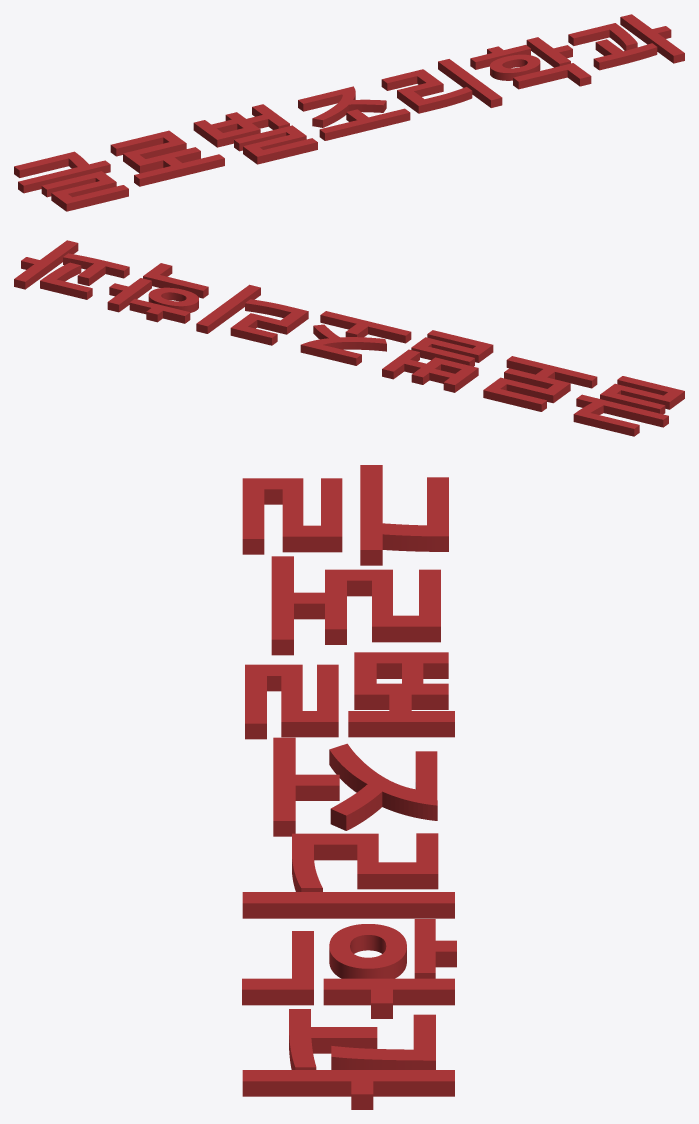
File: true8.fbx
3 views of the same model, one above another, from view 1: azimuth 30°, elevation 25°; view 2: azimuth 150°, elevation 25°; view 3: azimuth 270°, elevation 25° (orthographic). The views are drawn at different scales.
Visible parts, largest first — view 1: Text; view 2: Text; view 3: Text.
Boxes of the visible parts, bbox=[...] form: Text: bbox=[14, 14, 684, 211]; Text: bbox=[14, 240, 684, 436]; Text: bbox=[242, 465, 456, 1109].
Size of the model in its own units: 535 by 6.14 by 77.11.
